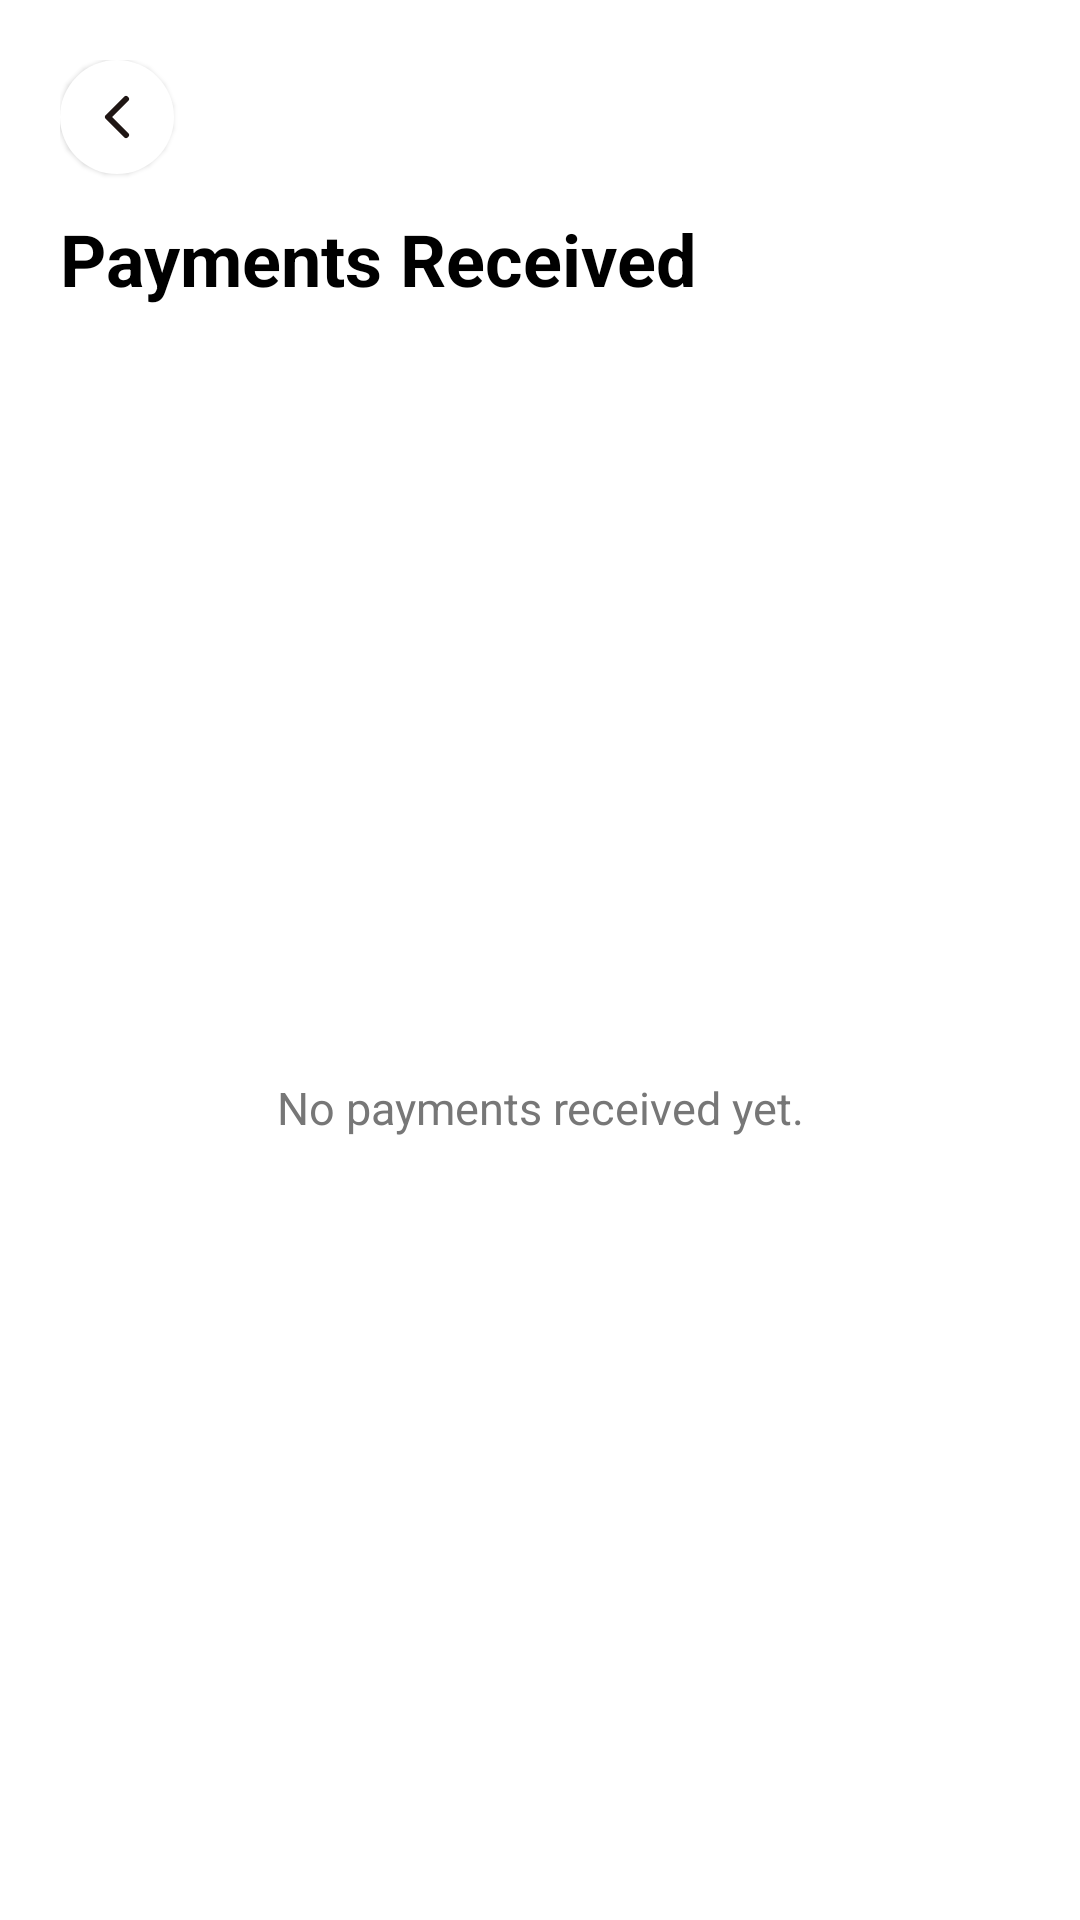

Point at icon controls on the screen. Image size 1080 x 1920, points as (x,y).
Navigate Back: (94,125)
